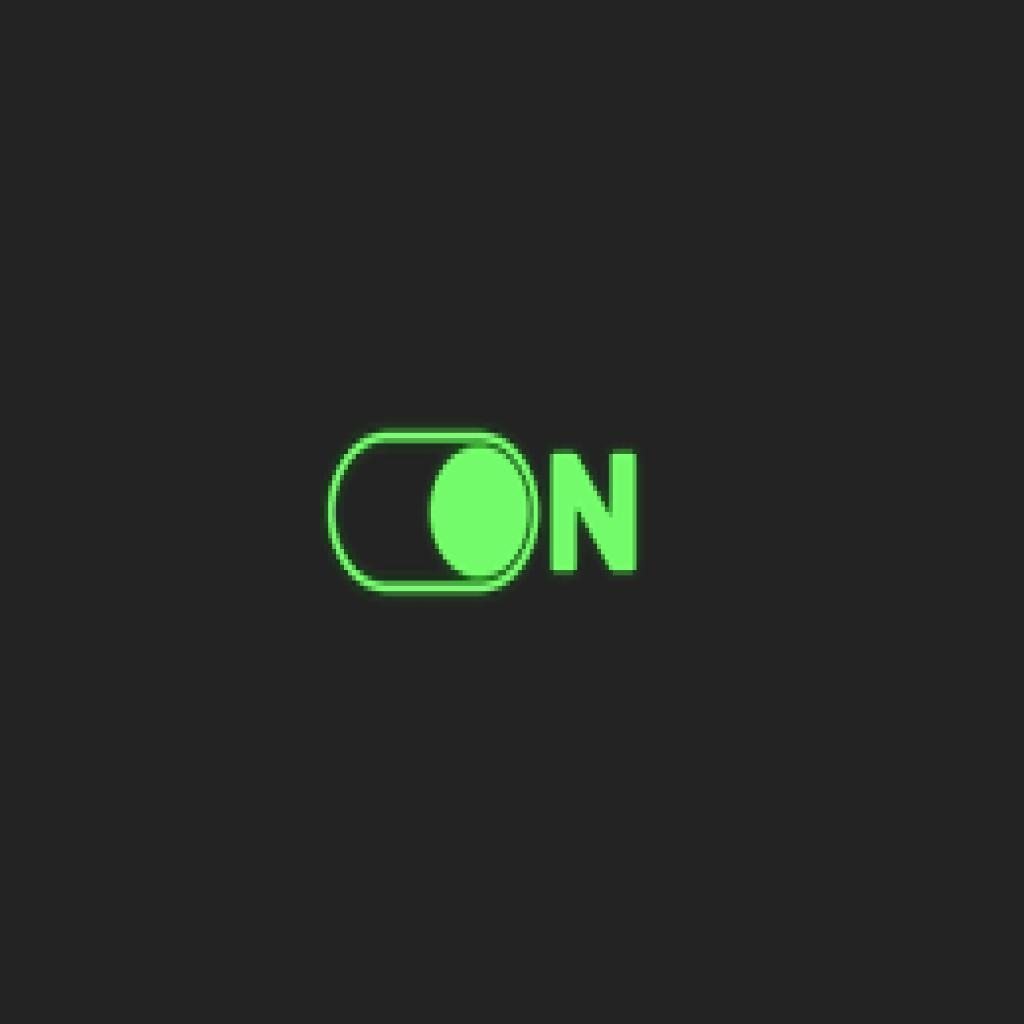switch: (328, 423, 538, 594)
